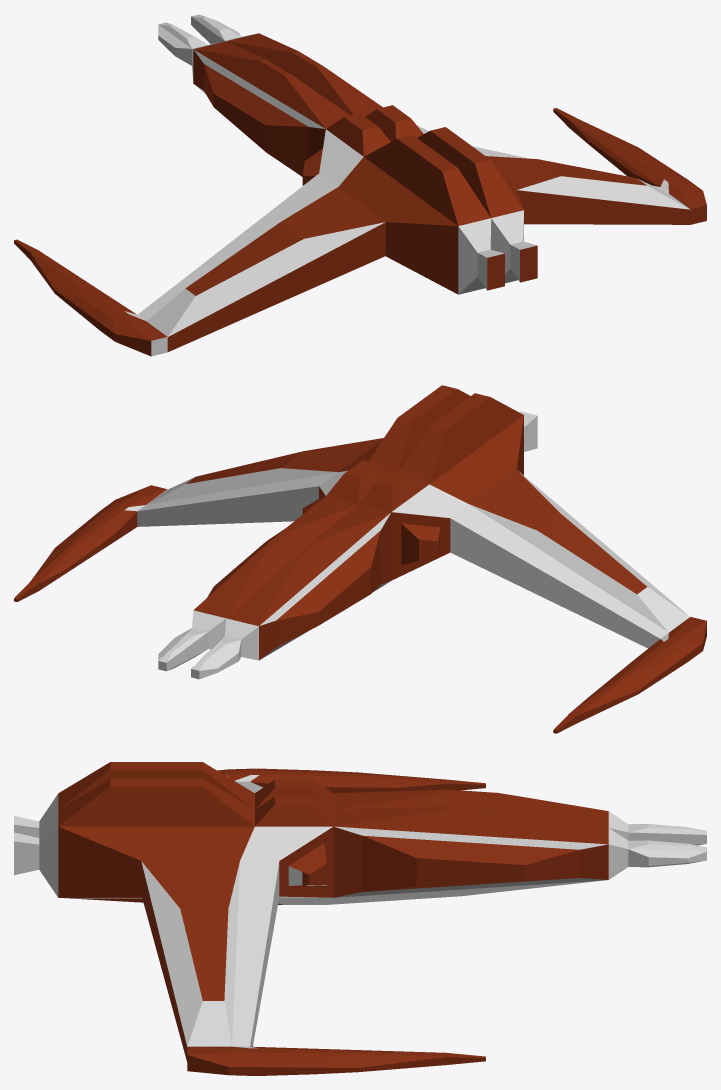
The picture shows the model from 3 angles, top to bottom: view 1: azimuth 30°, elevation 25°; view 2: azimuth 150°, elevation 25°; view 3: azimuth 270°, elevation 25°; orthographic projection. The views are drawn at different scales.
Visible parts, largest first — view 1: Player Ship-Fighter; view 2: Player Ship-Fighter; view 3: Player Ship-Fighter.
Part boxes in pixels (x1,y1,x2,y2): Player Ship-Fighter: (14, 14, 706, 356); Player Ship-Fighter: (14, 385, 706, 733); Player Ship-Fighter: (14, 762, 706, 1075).
Size of the model in its own units: 17.92 by 4.45 by 17.63.
